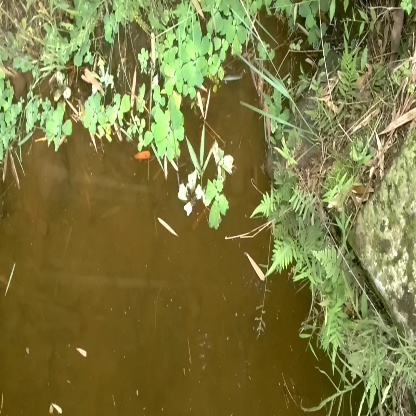leaf: (144, 98, 192, 170)
